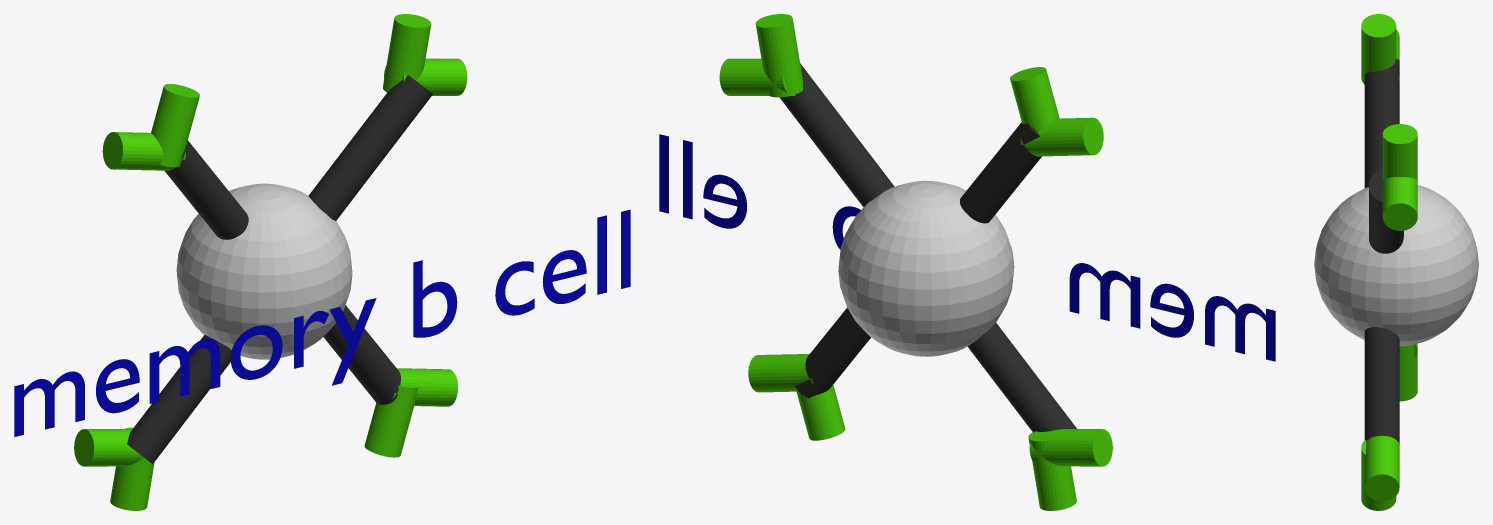
File: memorycell.obj
The picture shows the model from 3 angles, left to right: view 1: azimuth 30°, elevation 25°; view 2: azimuth 150°, elevation 25°; view 3: azimuth 270°, elevation 25°; orthographic projection. The views are drawn at different scales.
Parts seen in each view (by area): view 1: Sphere_Sphere.001, Text_Text.001, Cylinder.009, Cylinder.012, Cylinder.010, Cylinder.011, Cylinder.007, Cylinder.006_Cylinder.000, Cylinder.014, Cylinder.008, Cylinder.016, Cylinder.013 (+2 smaller); view 2: Sphere_Sphere.001, Text_Text.001, Cylinder.009, Cylinder.012, Cylinder.010, Cylinder.011, Cylinder.006_Cylinder.000, Cylinder.016, Cylinder.008, Cylinder.007, Cylinder.013, Cylinder.015 (+2 smaller); view 3: Sphere_Sphere.001, Cylinder.011, Cylinder.010, Cylinder.013, Cylinder.007, Cylinder.006_Cylinder.000, Cylinder.004_Cylinder.005, Cylinder.009, Cylinder.015, Cylinder.014, Cylinder.001_Cylinder.002.
Boxes of the visible parts, x1,y1,x2,y2 form: Sphere_Sphere.001: (176,183,352,359); Text_Text.001: (14,209,630,436); Cylinder.009: (308,75,432,220); Cylinder.012: (127,335,231,463); Cylinder.010: (164,140,248,239); Cylinder.011: (323,305,400,404); Cylinder.007: (151,84,199,167); Cylinder.006_Cylinder.000: (383,14,431,92); Cylinder.014: (364,385,418,457); Cylinder.008: (102,132,185,170); Cylinder.016: (74,429,143,466); Cylinder.013: (392,368,458,406); Sphere_Sphere.001: (838,180,1014,356); Text_Text.001: (659,134,1275,361); Cylinder.009: (779,63,894,207); Cylinder.012: (967,323,1076,432); Cylinder.010: (959,122,1041,223); Cylinder.011: (795,307,870,398); Cylinder.006_Cylinder.000: (755,14,803,97); Cylinder.016: (1029,429,1112,466); Cylinder.008: (1020,117,1103,156); Cylinder.007: (1010,67,1059,131); Cylinder.013: (748,354,813,392); Cylinder.015: (1028,432,1076,510); Sphere_Sphere.001: (1314,185,1478,346); Cylinder.011: (1364,327,1399,444); Cylinder.010: (1364,59,1399,187); Cylinder.013: (1364,435,1399,501); Cylinder.007: (1361,14,1396,84); Cylinder.006_Cylinder.000: (1382,124,1417,179); Cylinder.004_Cylinder.005: (1382,177,1417,230); Cylinder.009: (1369,169,1403,253); Cylinder.015: (1399,343,1417,401); Cylinder.014: (1361,440,1396,510); Cylinder.001_Cylinder.002: (1379,201,1391,253).
Size of the model in its own units: 1.9 by 1.24 by 0.4995.
